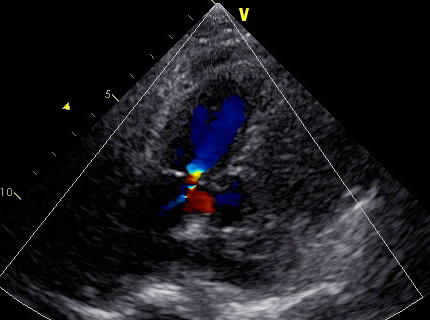TR: (168, 152, 220, 202)
